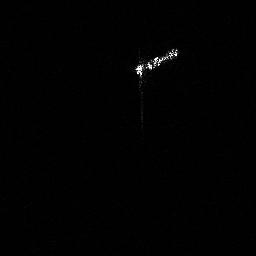ship: (131, 43, 182, 79)
